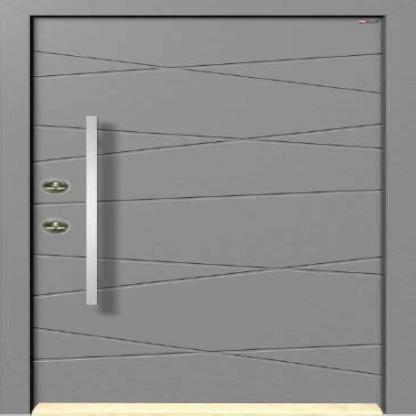door: (30, 16, 375, 402)
